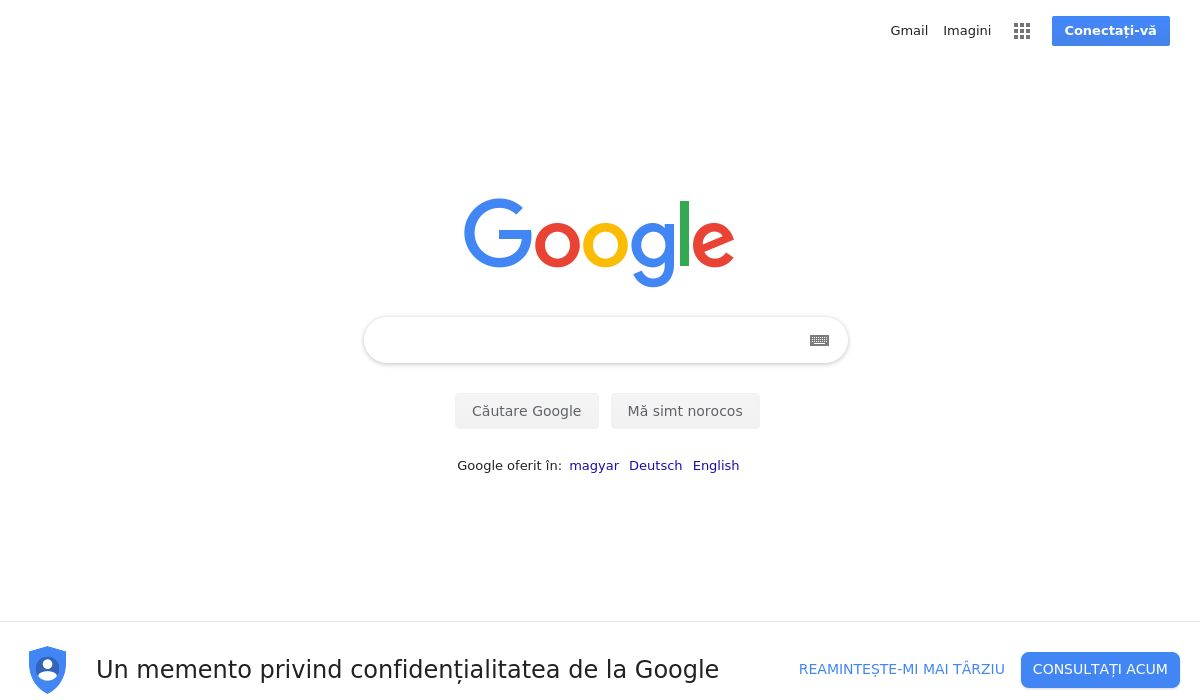menu: (1, 1, 1200, 58)
menu-button: (1050, 15, 1168, 45), (937, 16, 996, 44), (885, 17, 934, 45), (1007, 17, 1035, 43)
